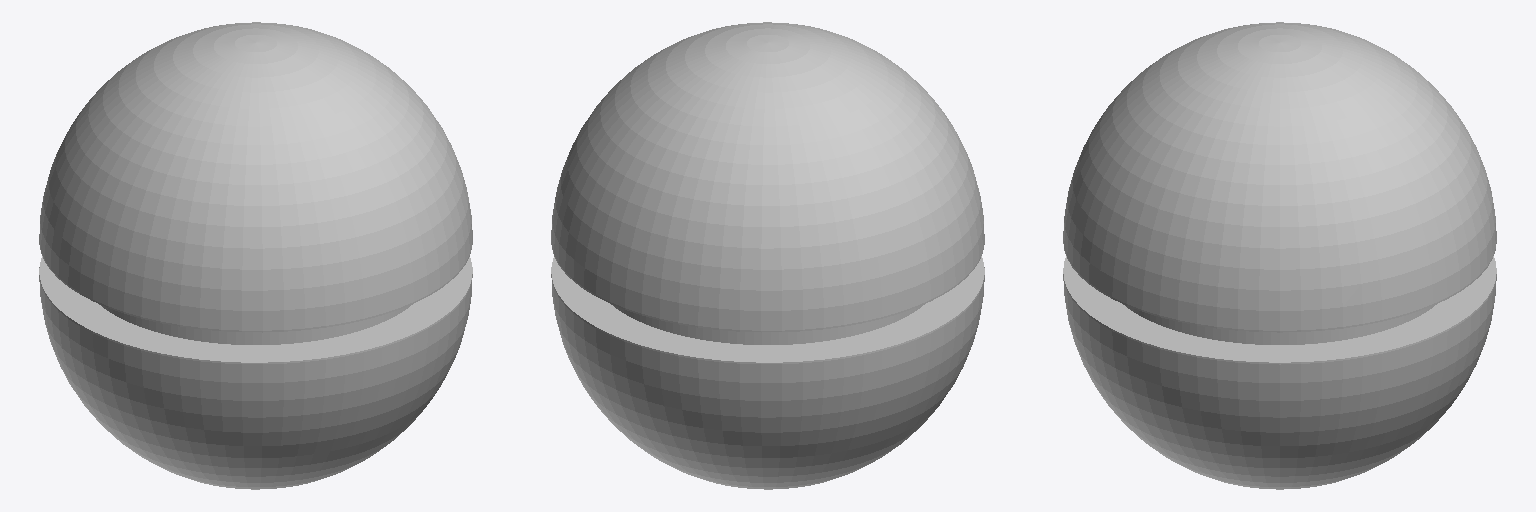
The model's file is droid_anim_000006.obj.
The picture shows the model from 3 angles: view 1: azimuth 30°, elevation 25°; view 2: azimuth 150°, elevation 25°; view 3: azimuth 270°, elevation 25°; orthographic projection.
Parts seen in each view (by area): view 1: Sphere.004, Sphere.005, Cylinder.002; view 2: Sphere.004, Sphere.005, Cylinder.002; view 3: Sphere.004, Sphere.005, Cylinder.002.
Boxes of the visible parts, box(x1,y1,x2,y2) form: Sphere.004: box(39, 22, 472, 332); Sphere.005: box(39, 256, 472, 489); Cylinder.002: box(99, 304, 412, 344); Sphere.004: box(551, 22, 984, 332); Sphere.005: box(551, 256, 984, 489); Cylinder.002: box(611, 304, 924, 344); Sphere.004: box(1063, 22, 1496, 332); Sphere.005: box(1063, 256, 1496, 489); Cylinder.002: box(1123, 304, 1436, 344).
Bounding box in the file's own units: 2 × 2.17 × 2.